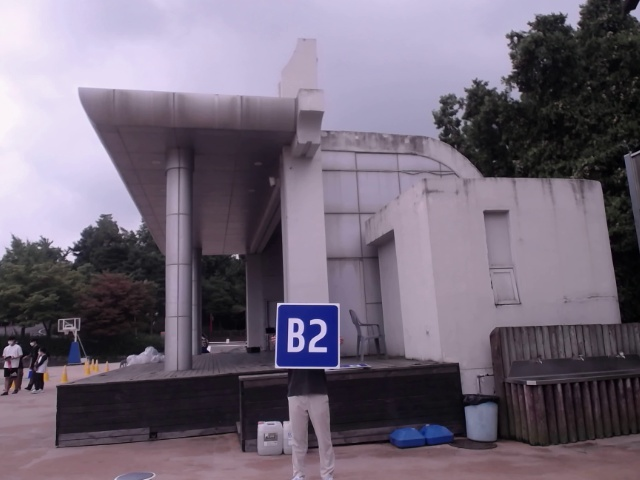delivery_b2: (276, 302, 341, 370)
